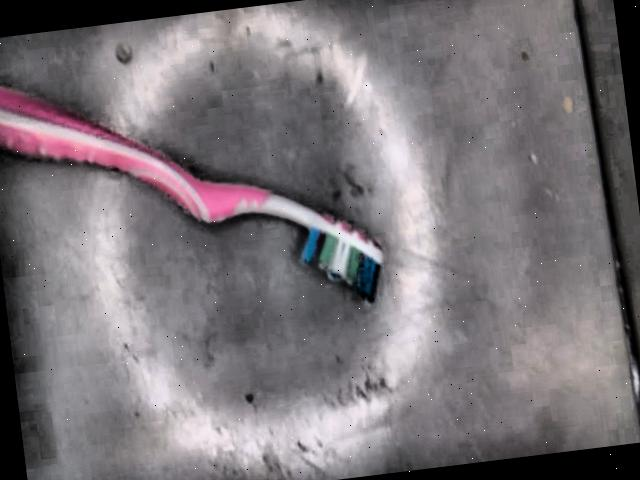Plastic: (0, 85, 385, 300)
